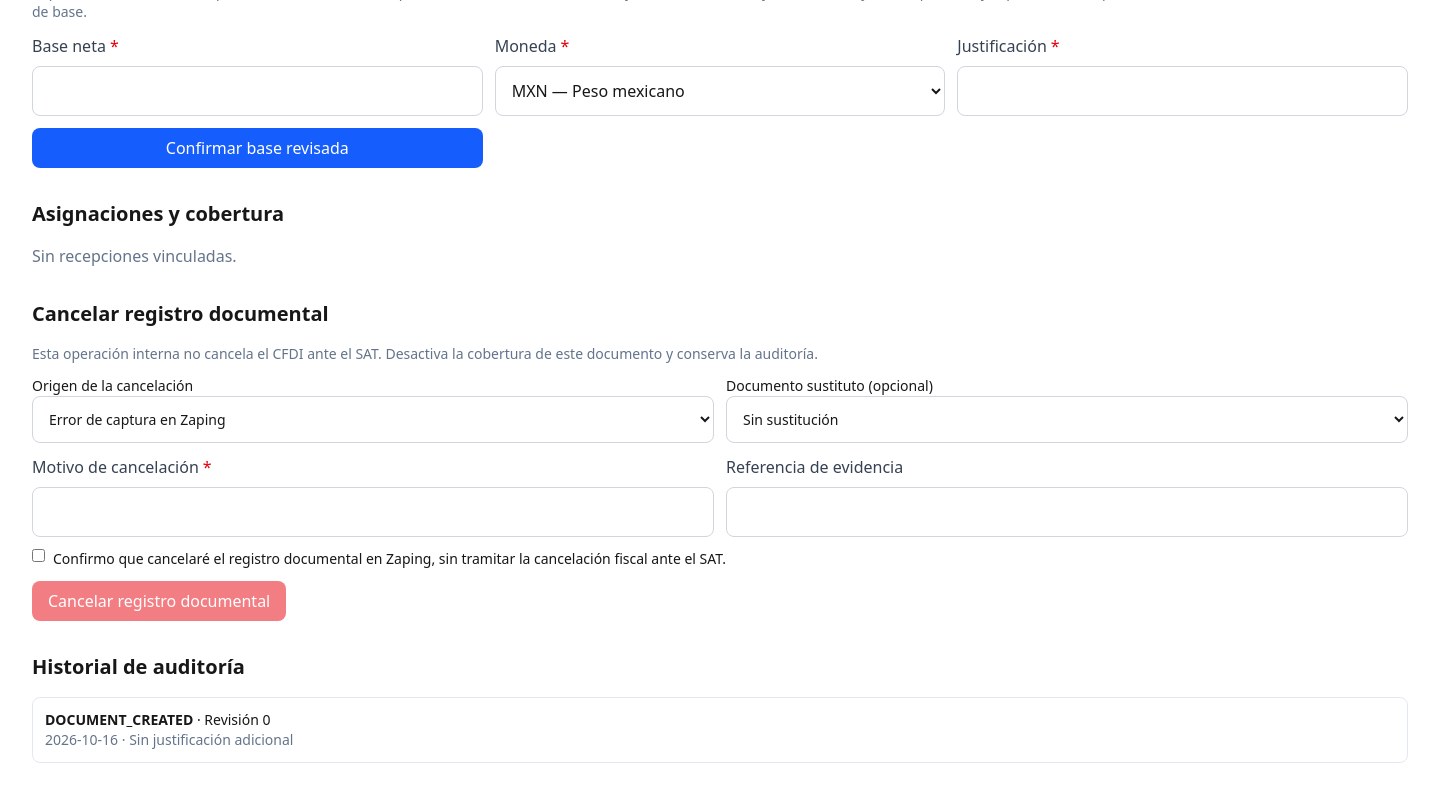
R2A-03 supplier document detail › displays an unconfirmed basis, historical audit and controls without assuming SAT verification
(page scrolled)
Expected: the text "DOCUMENT_CREATED" is shown, [45, 710, 193, 729]
Expected: the text "Sin recepciones vinculadas." is shown, [32, 245, 237, 267]
Click the checkbox labelled "Confirmo que cancelaré el registro documental" at (38, 556), box [32, 549, 45, 562]
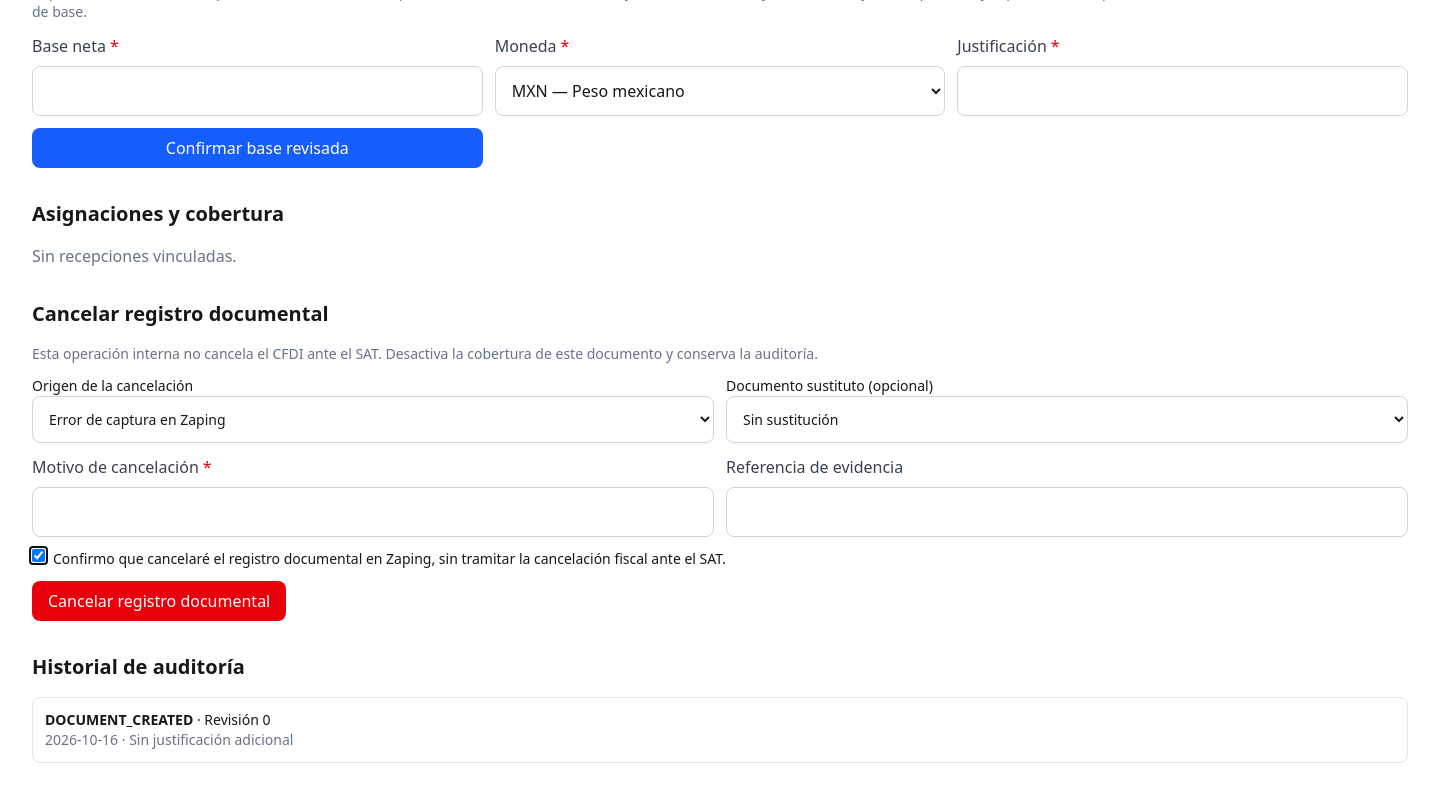
Expected: the button "Cancelar registro documental" is enabled, [32, 581, 286, 621]
